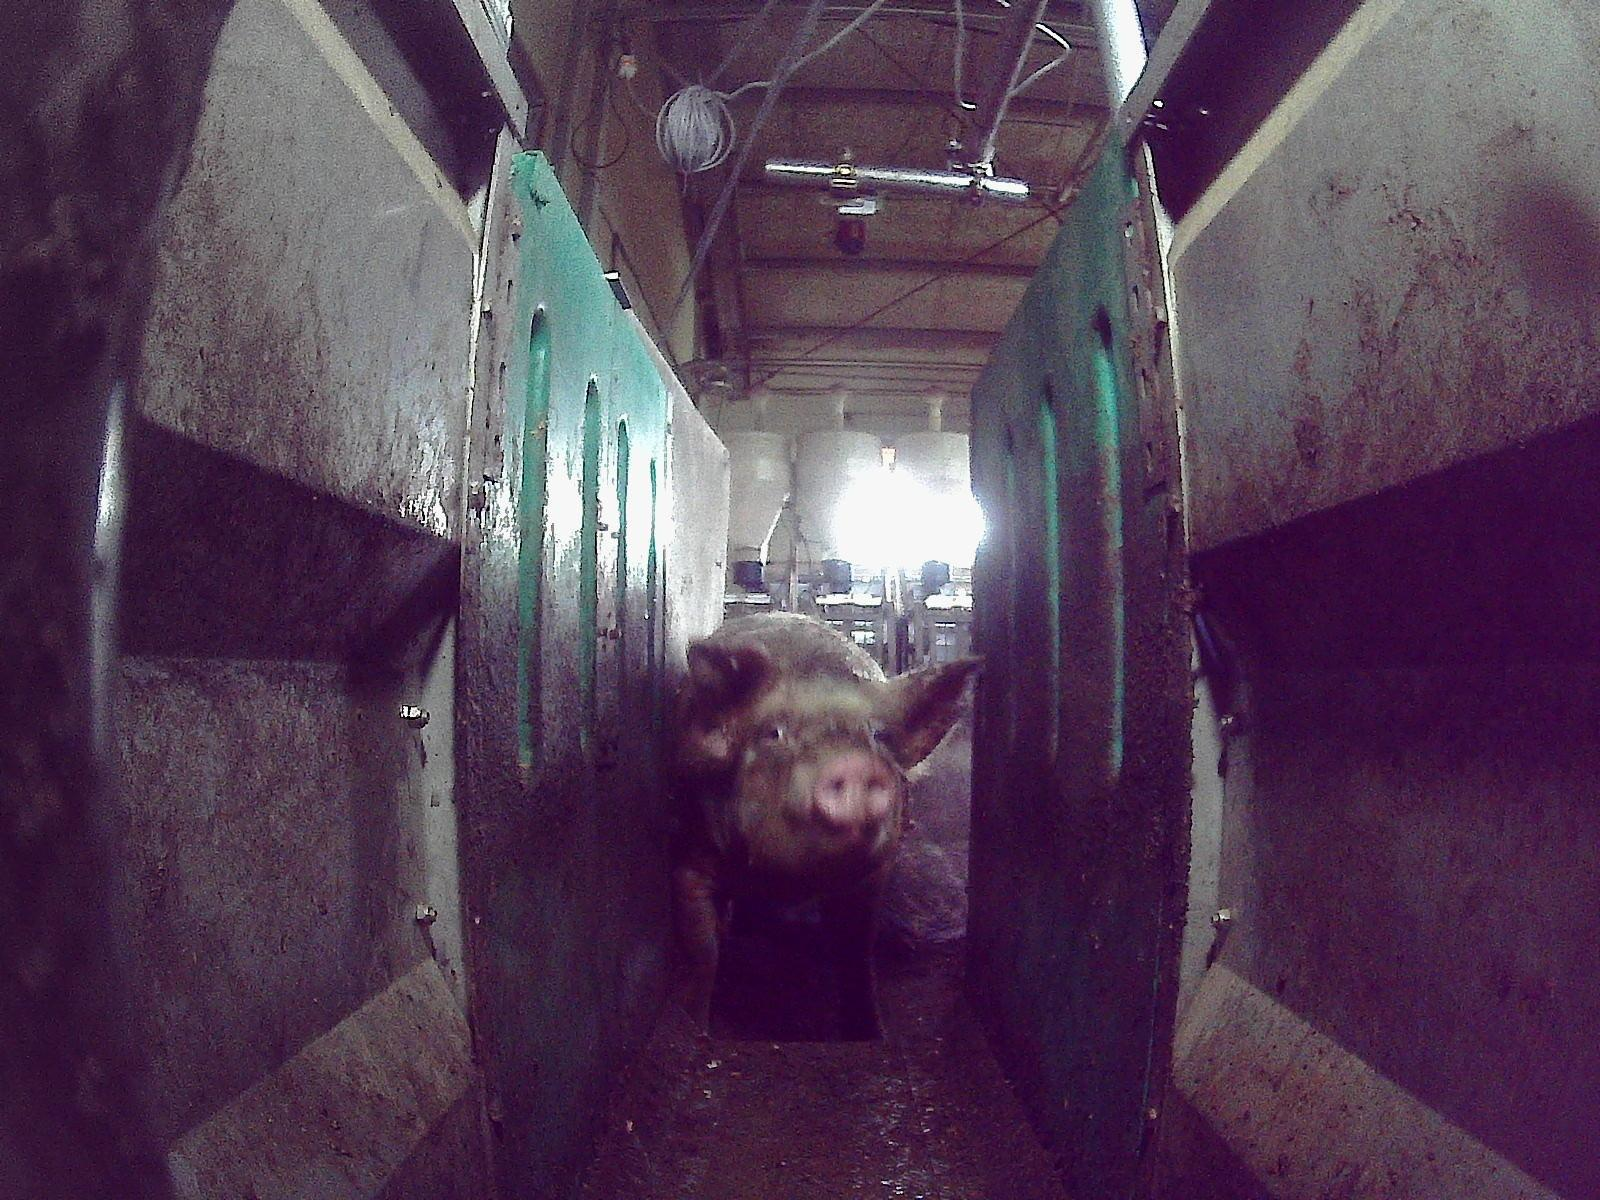Face: (713, 667, 902, 880)
